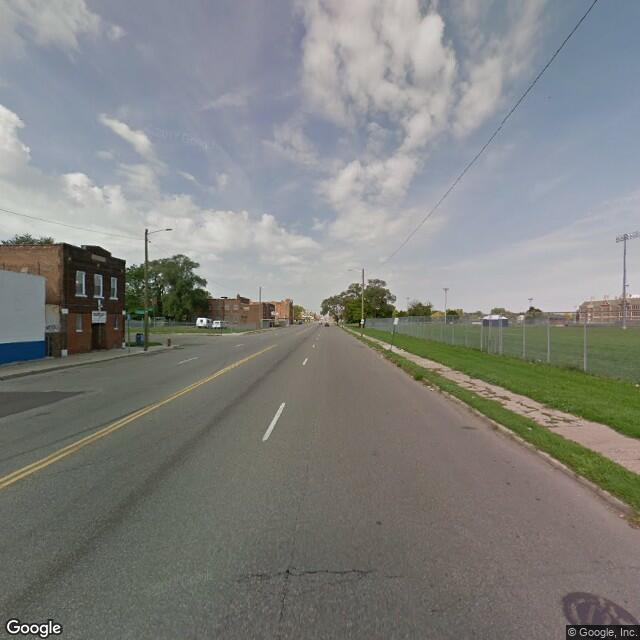litter: (423, 384, 436, 391), (632, 380, 640, 390), (528, 424, 532, 431)
